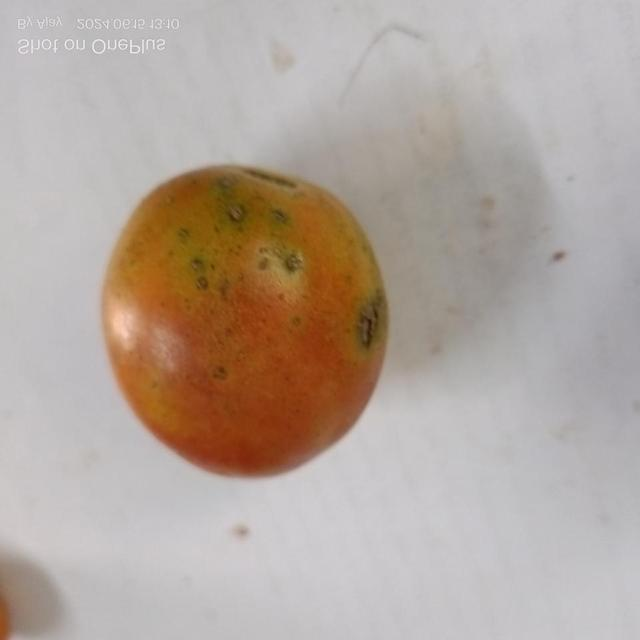Bacterial Spot Fruit: (14, 10, 246, 249)
